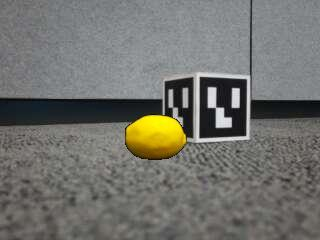lemon: (126, 115, 186, 159)
